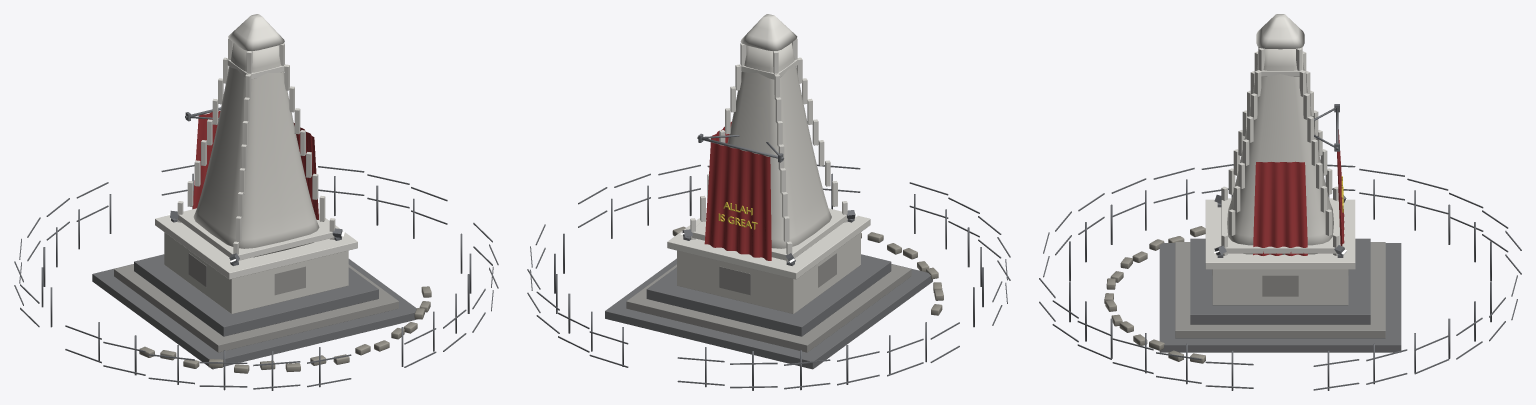
The model's file is monument.glb.
3 views of the same model, side by side, from view 1: azimuth 30°, elevation 25°; view 2: azimuth 150°, elevation 25°; view 3: azimuth 270°, elevation 25° (orthographic).
Visible parts, largest first — view 1: Env_monument; view 2: Env_monument; view 3: Env_monument.
Part boxes in pixels (x1=…): Env_monument: x1=14, y1=14, x2=498, y2=390; Env_monument: x1=527, y1=14, x2=1010, y2=390; Env_monument: x1=1039, y1=14, x2=1521, y2=390.
Bounding box in the file's own units: 25.93 × 16.92 × 25.93.
